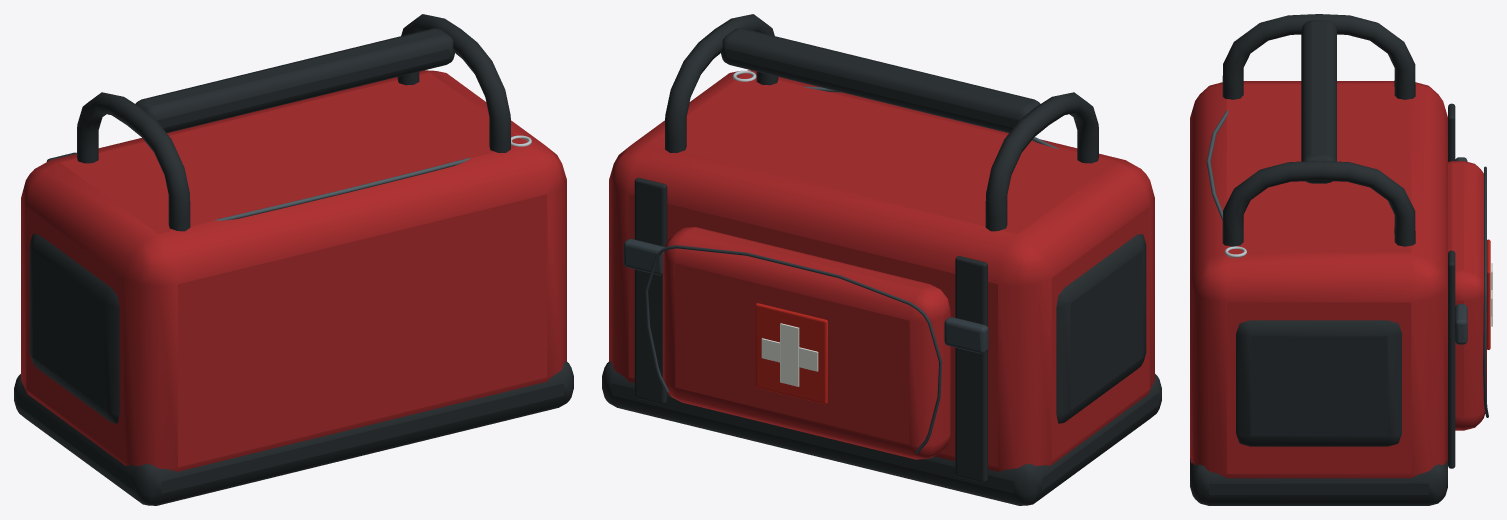
The model's file is trauma_bag.glb.
The picture shows the model from 3 angles, left to right: view 1: azimuth 30°, elevation 25°; view 2: azimuth 150°, elevation 25°; view 3: azimuth 270°, elevation 25°; orthographic projection. The views are drawn at different scales.
Parts seen in each view (by area): view 1: trauma_bag_render_mesh; view 2: trauma_bag_render_mesh; view 3: trauma_bag_render_mesh.
Part boxes in pixels (left/top/right/bottom): trauma_bag_render_mesh: left=14, top=14, right=573, bottom=505; trauma_bag_render_mesh: left=602, top=14, right=1161, bottom=505; trauma_bag_render_mesh: left=1190, top=14, right=1492, bottom=505.
Bounding box in the file's own units: 0.463 × 0.34 × 0.2876.
